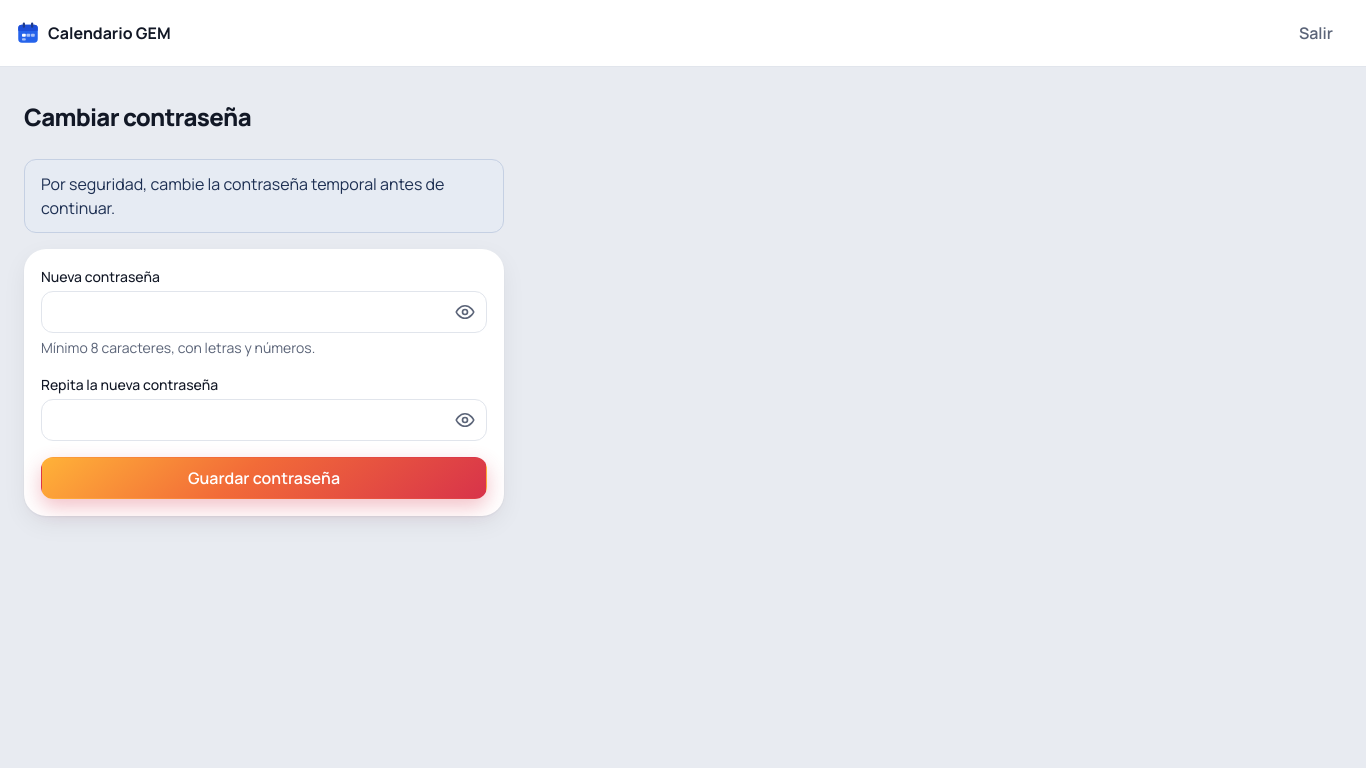
it: ChangePasswordPage › si falla, se queda en la pantalla y muestra el error
Type "Nueva12345" into the password field labelled "Nueva contraseña" at (264, 312), box [41, 291, 487, 333]
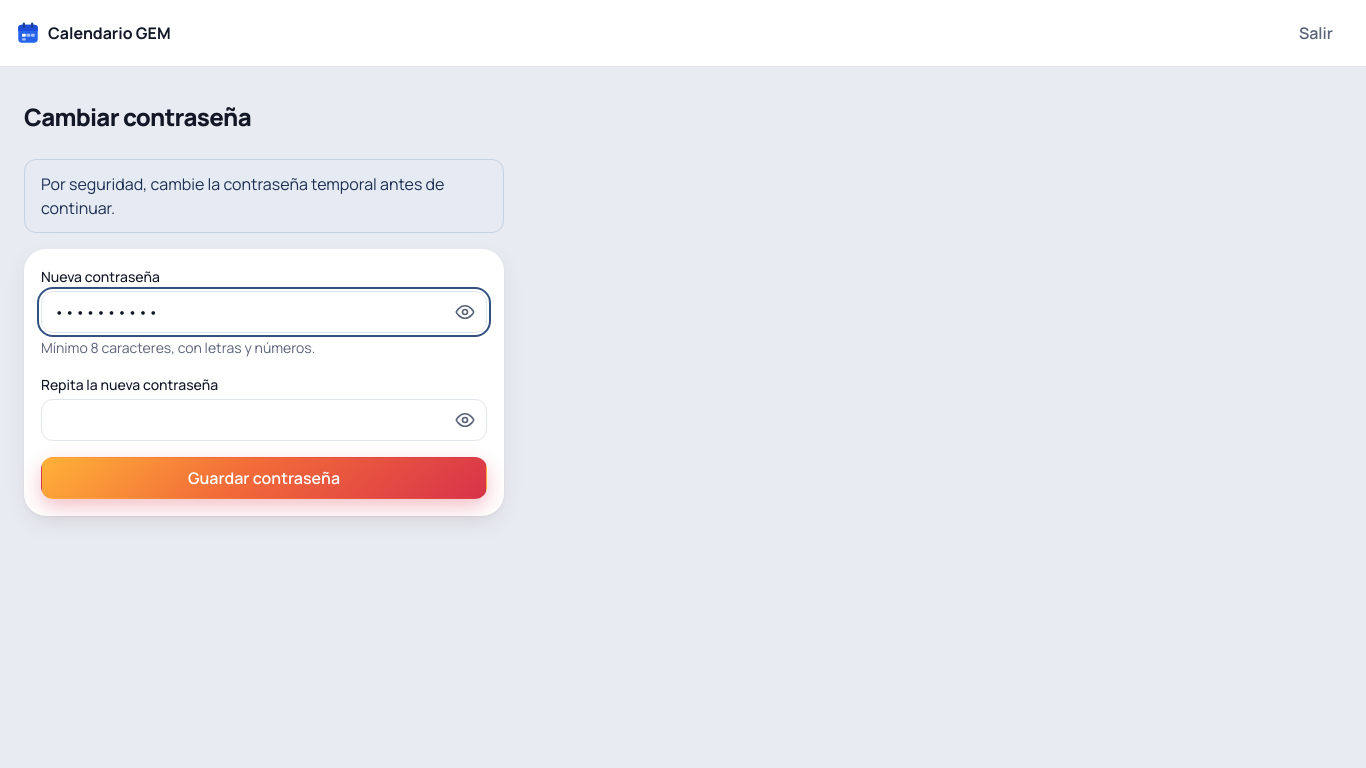
Type "Nueva12345" into the password field labelled "Repita la nueva contraseña" at (264, 420), box [41, 399, 487, 441]
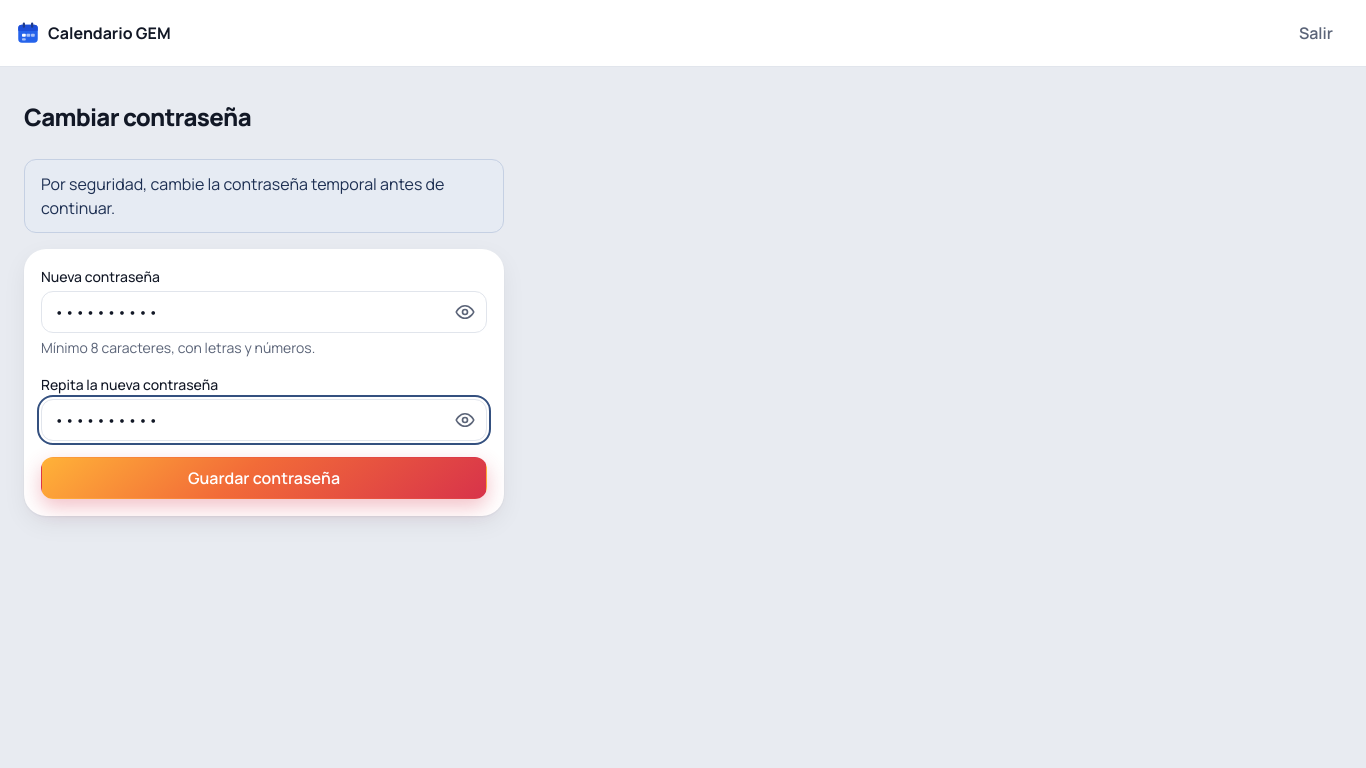
Click the button "Guardar contraseña" at (264, 478), box [41, 457, 487, 499]
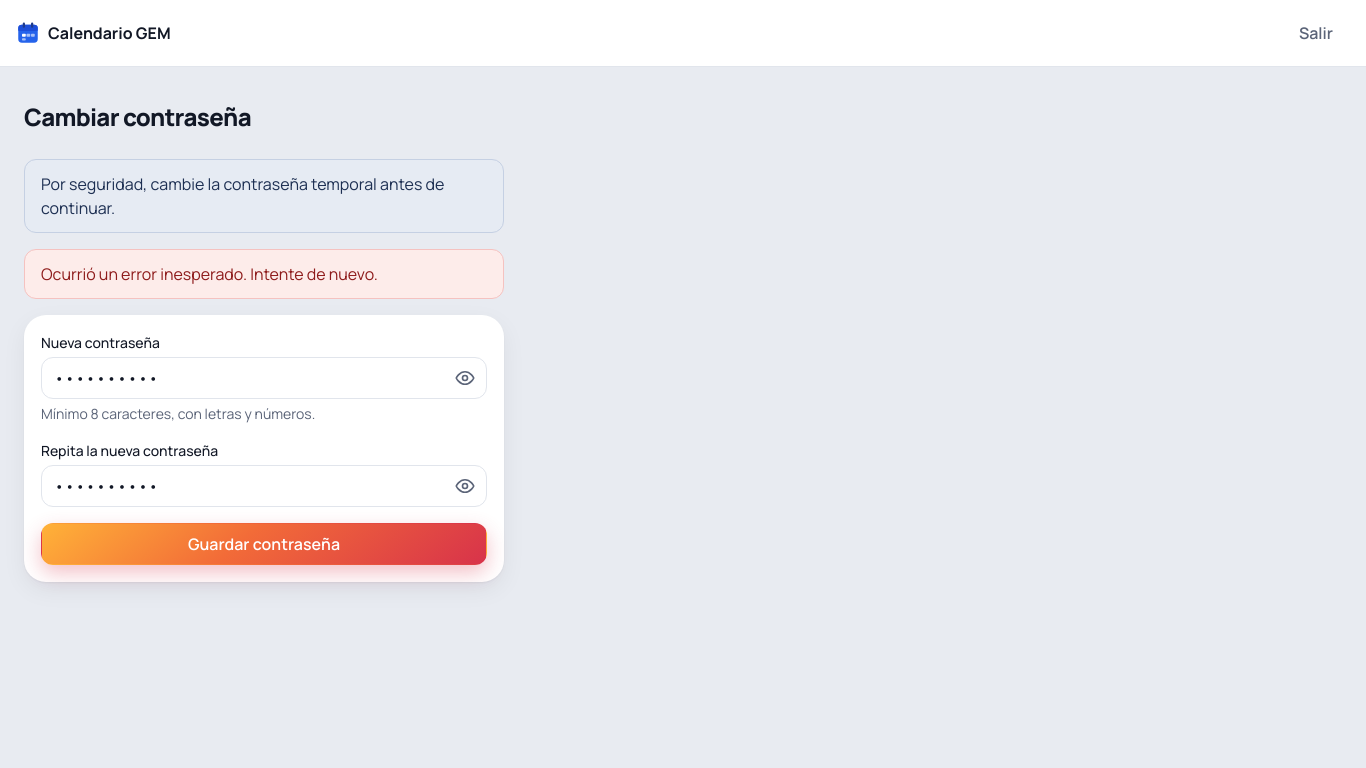
Expected: the button "Guardar contraseña" is enabled, [41, 523, 487, 565]
Now the message "Ocurrió un error inesperado. Intente de nuevo." is shown, box [24, 249, 504, 299]
